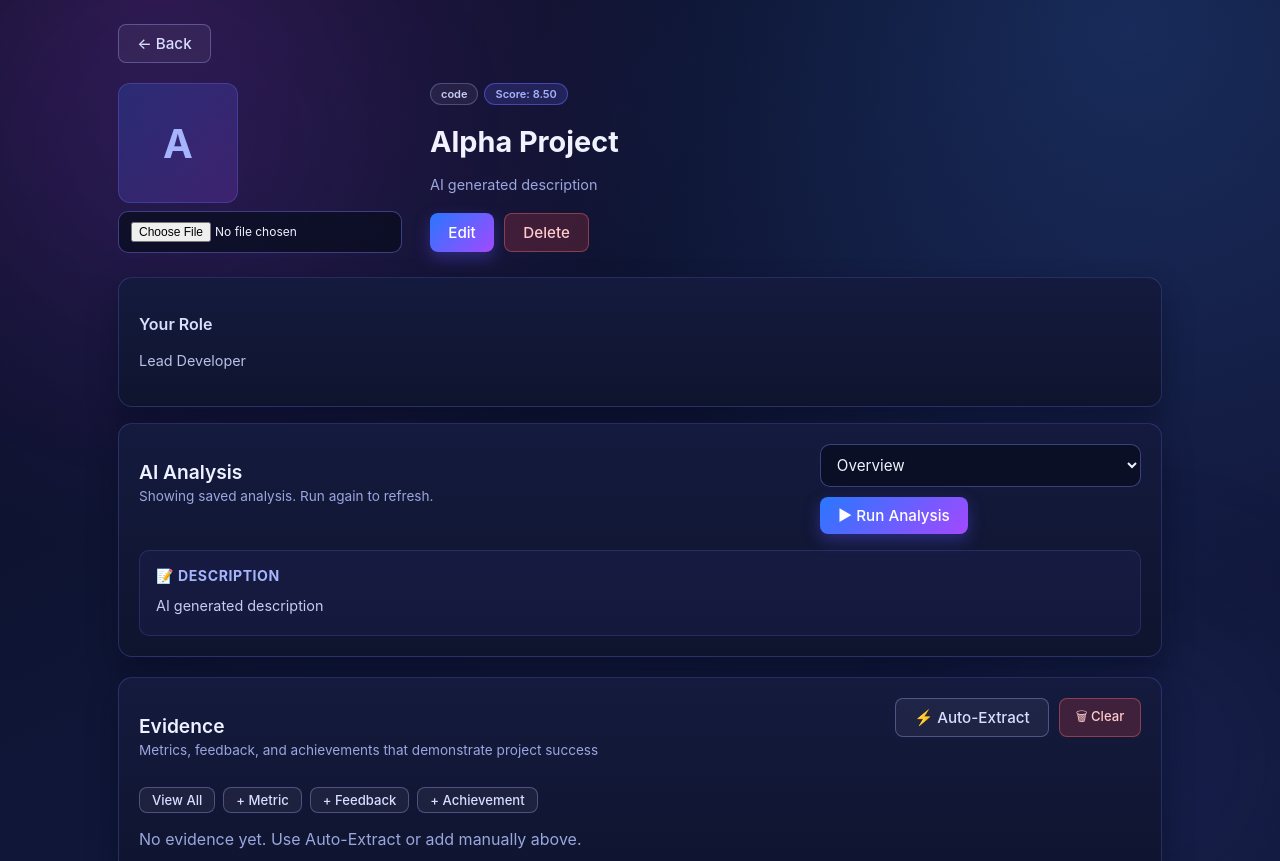
Test case: ProjectPage - editing › exits edit mode on Cancel click
What coordinates should you click on to do the following:
click the button "Edit"
I would click on:
 (462, 233)
Its box is [430,213,494,252].
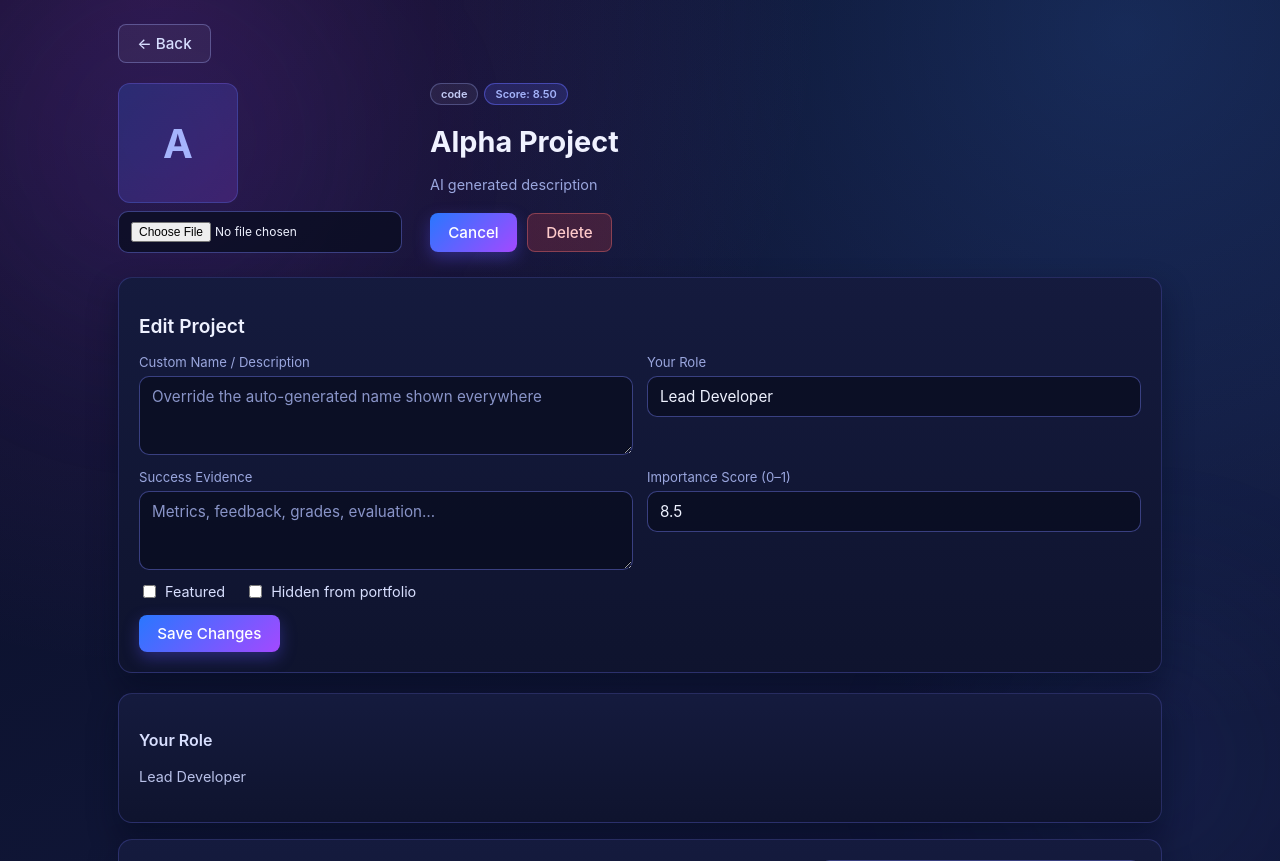
expect the button "Cancel" is shown: met
What coordinates should you click on to do the following:
click the button "Cancel"
I would click on:
 (473, 233)
Its box is [430,213,517,252].
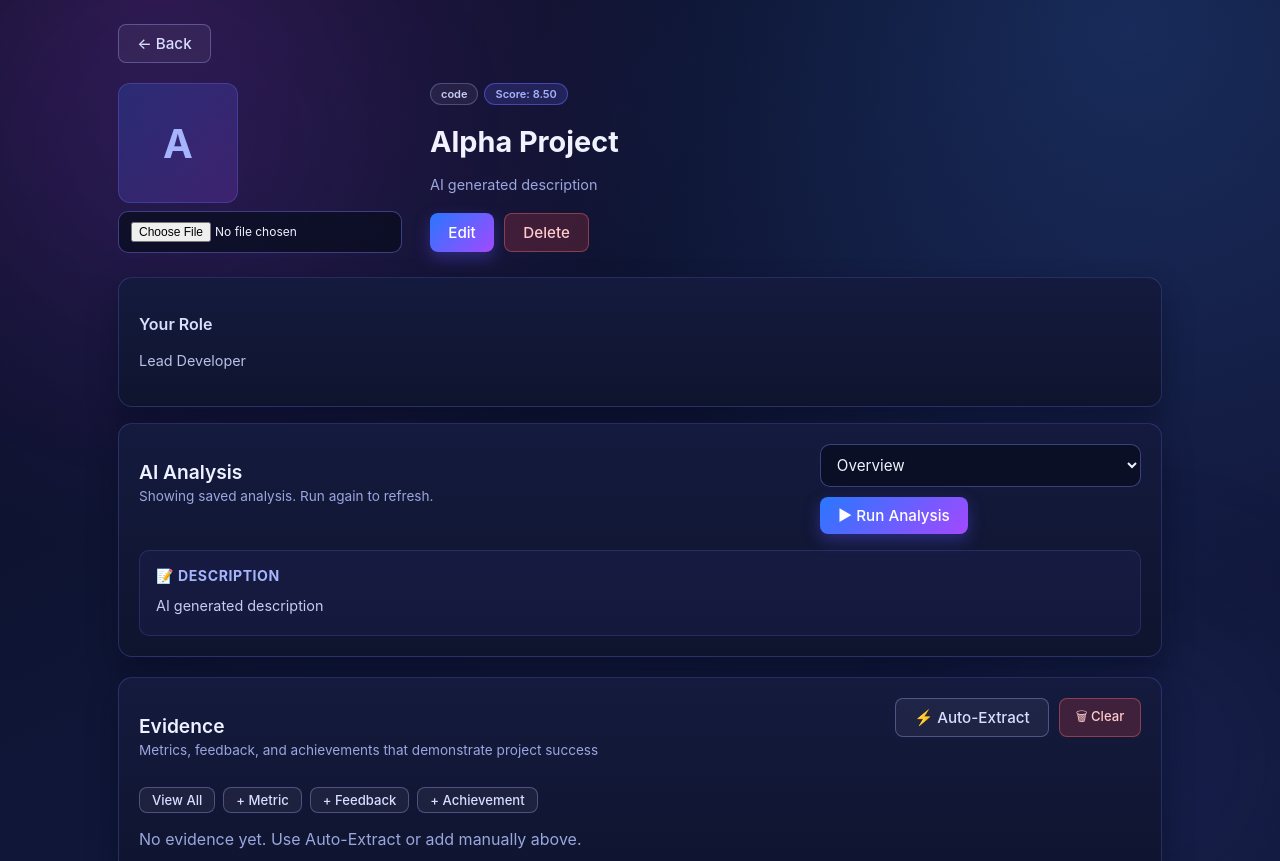
expect the button "Edit" is shown: met, box [430,213,494,252]
